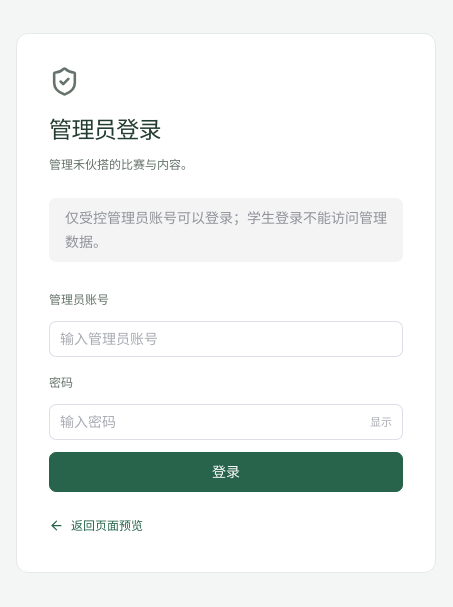
it: 管理员登录前端预览 › 输入账号密码后仍提示服务未开放，不生成会话且清空密码
Type "demo" into the field with id "admin-account" at (226, 339), box [60,324,392,354]
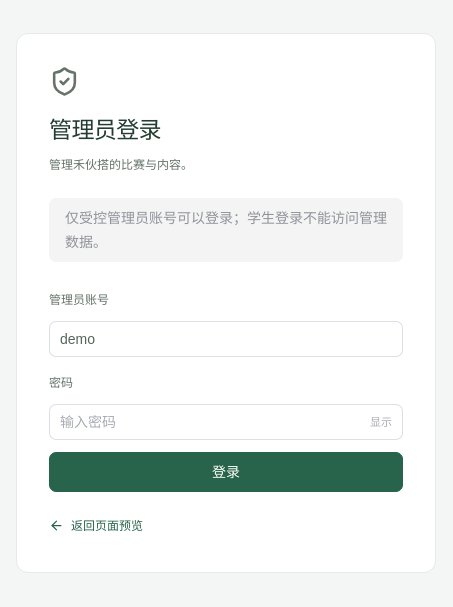
Type "only-for-test" into the password field with id "admin-password" at (211, 422), box [60,407,362,437]
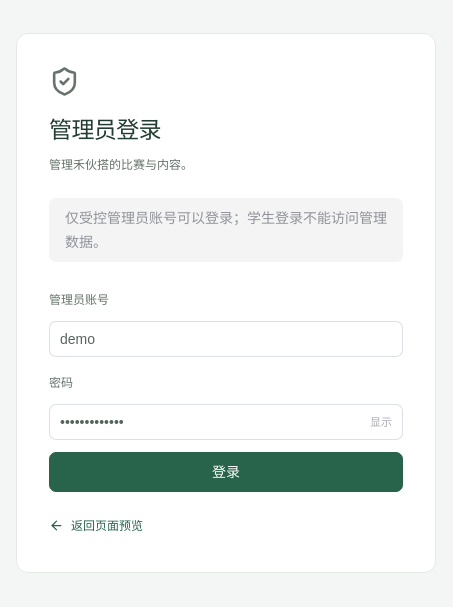
Submit the form, box [49,286,403,492]
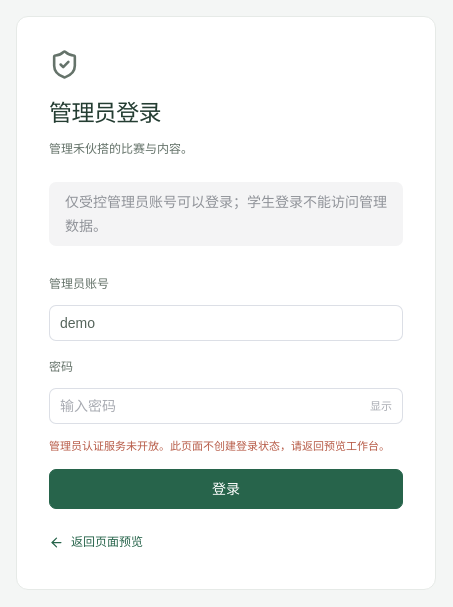
expect the message with class "form-error" shows "管理员认证服务未开放": met, box [49,440,390,452]
expect the password field with id "admin-password" is empty: met, box [60,391,362,421]
